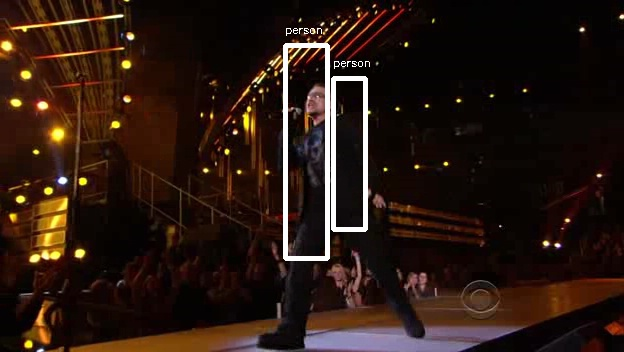person: (287, 83, 376, 255), (284, 83, 373, 255), (290, 83, 379, 255), (287, 80, 376, 252), (287, 86, 376, 258)
target_negative: (163, 252, 469, 344), (58, 266, 591, 315), (215, 298, 436, 329), (498, 10, 539, 135), (420, 190, 512, 201), (604, 325, 618, 327)
